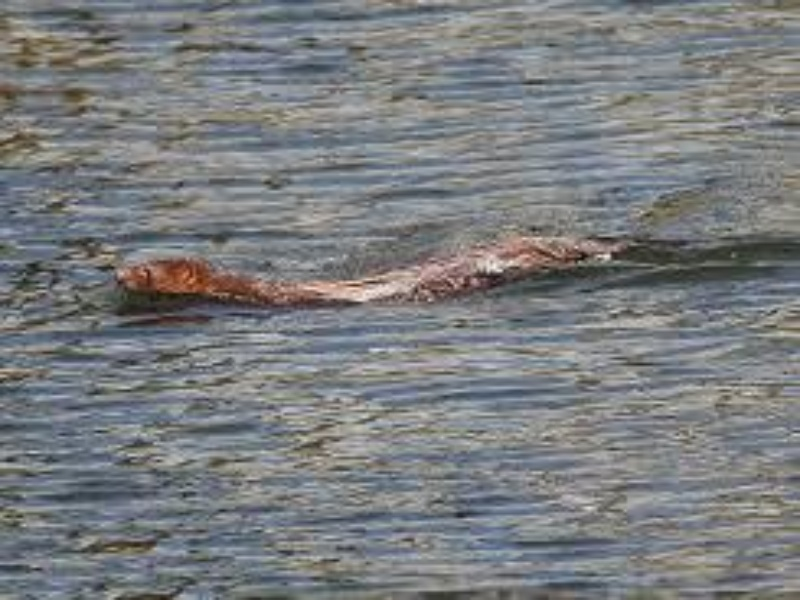minkish: (109, 230, 659, 310)
